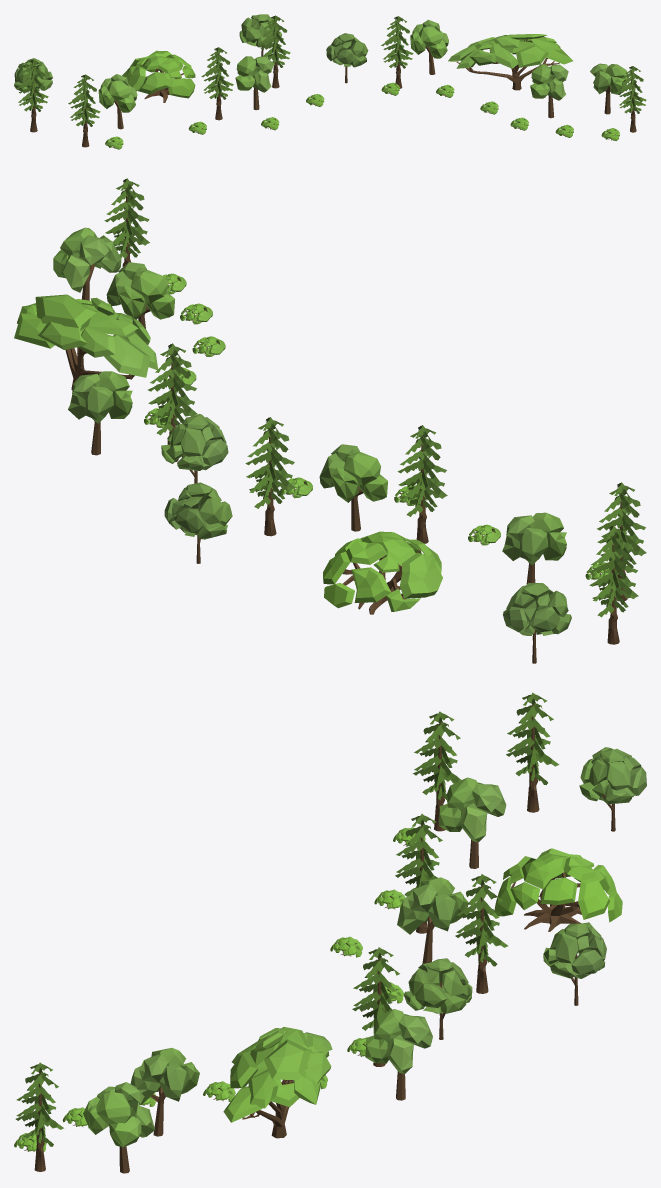
Rendered from TreeGroup 7.fbx.
The picture shows the model from 3 angles, top to bottom: view 1: azimuth 30°, elevation 25°; view 2: azimuth 150°, elevation 25°; view 3: azimuth 270°, elevation 25°; orthographic projection. The views are drawn at different scales.
Visible parts, largest first — view 1: TreeGroup__7__mesh_mesh; view 2: TreeGroup__7__mesh_mesh; view 3: TreeGroup__7__mesh_mesh.
Part boxes in pixels (x1,y1,x2,y2): TreeGroup__7__mesh_mesh: (14,14,646,149); TreeGroup__7__mesh_mesh: (14,178,646,663); TreeGroup__7__mesh_mesh: (14,692,646,1173).
Size of the model in its own units: 8670 by 1272 by 5987.
